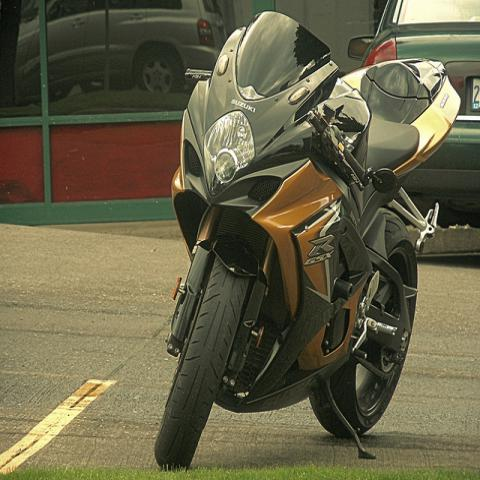car: (346, 1, 480, 195), (10, 1, 228, 110)
motorcycle: (143, 8, 463, 470)
